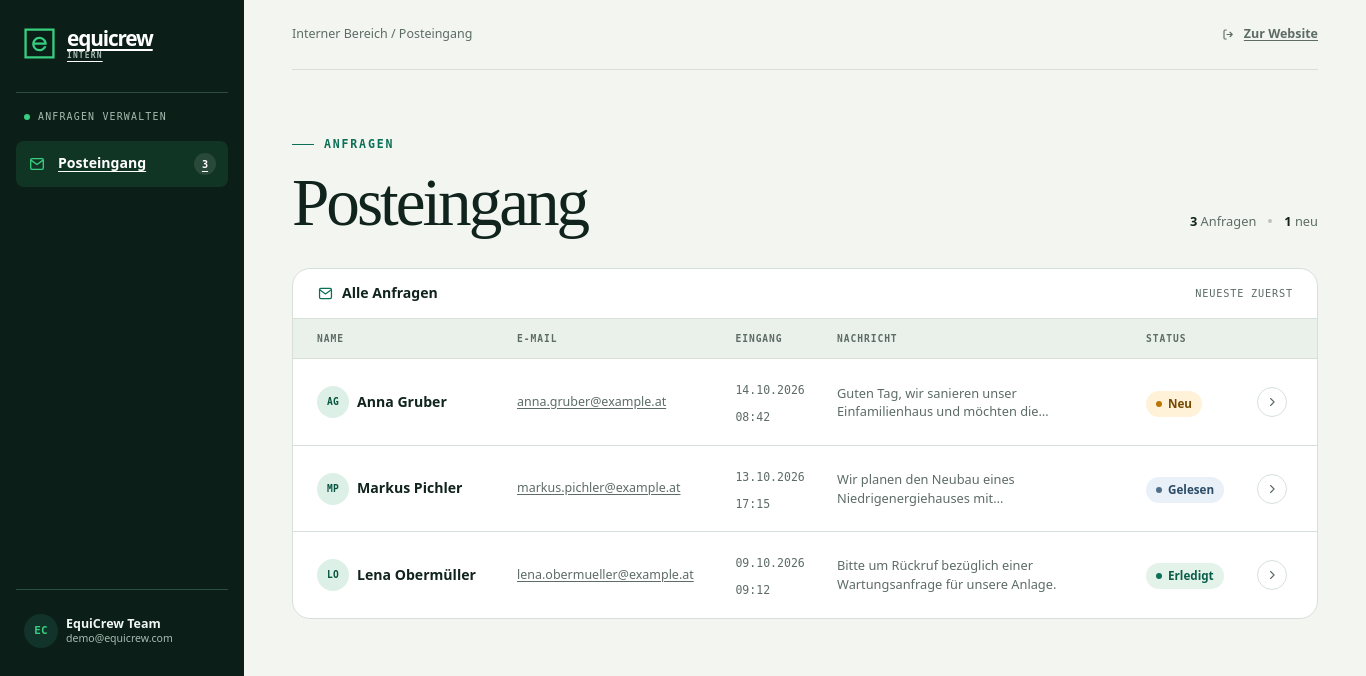
it: InboxPage › opens an inquiry, marks it done and shows the new status in the list
Step 1. Click the link "Anna Gruber" → (402, 402), box [357,391,447,414]
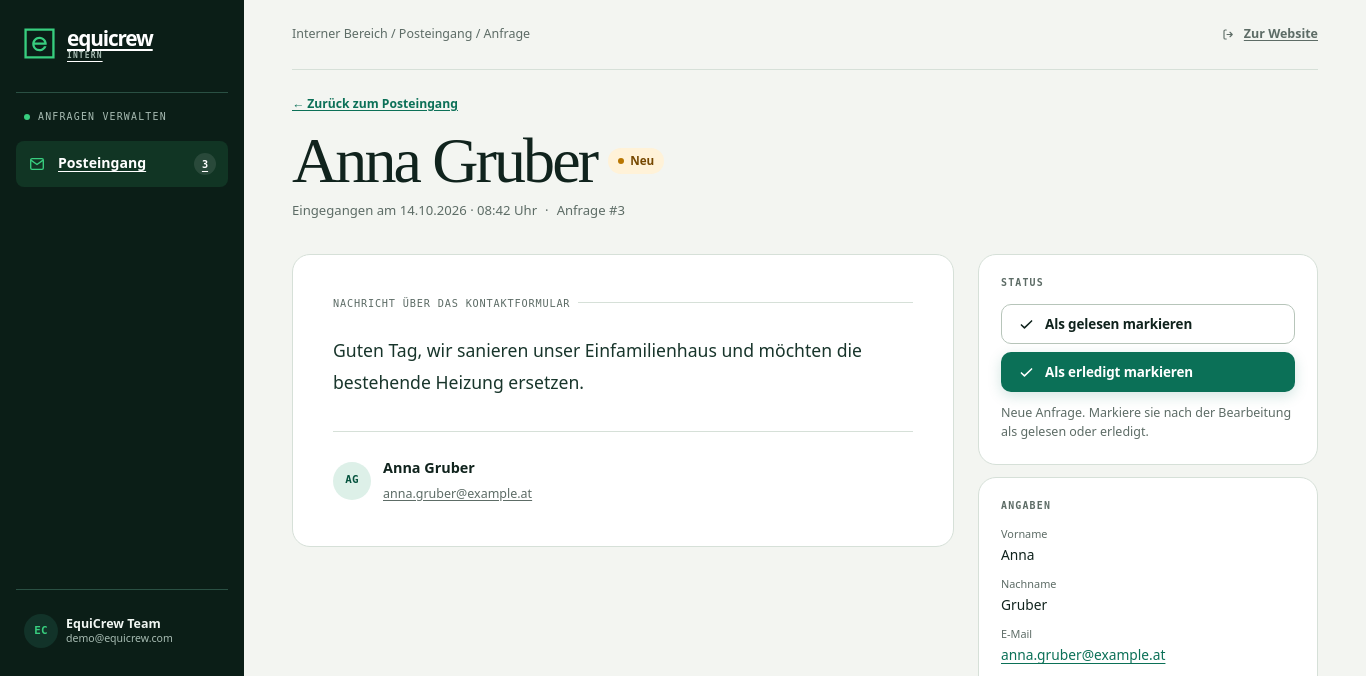
Check: the text "wir sanieren unser Einfamilienhaus" is shown, box [333,338,862,394]
Check: the heading "Anna Gruber" is shown, box [292,130,596,192]
Check: the link "anna.gruber@example.at" below "Nachricht über das Kontaktformular" is shown, box [383,485,532,502]
Step 2. Click the button "Als erledigt markieren" → (1148, 372), box [1001,352,1295,392]
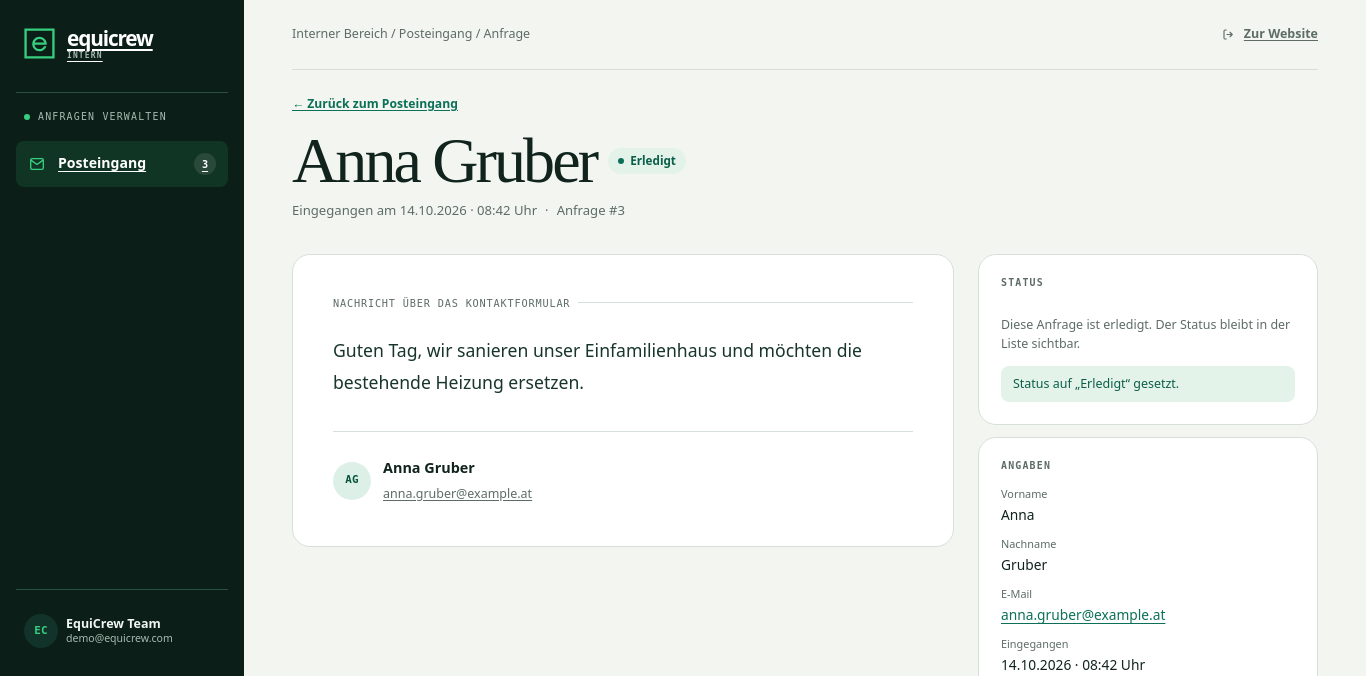
Check: the text "Status auf „Erledigt“ gesetzt." is shown, box [1001,366,1295,402]
Check: the text "Erledigt" is shown, box [608,148,686,174]
Step 3. Click the link "← Zurück zum Posteingang" → (375, 104), box [292,94,458,114]
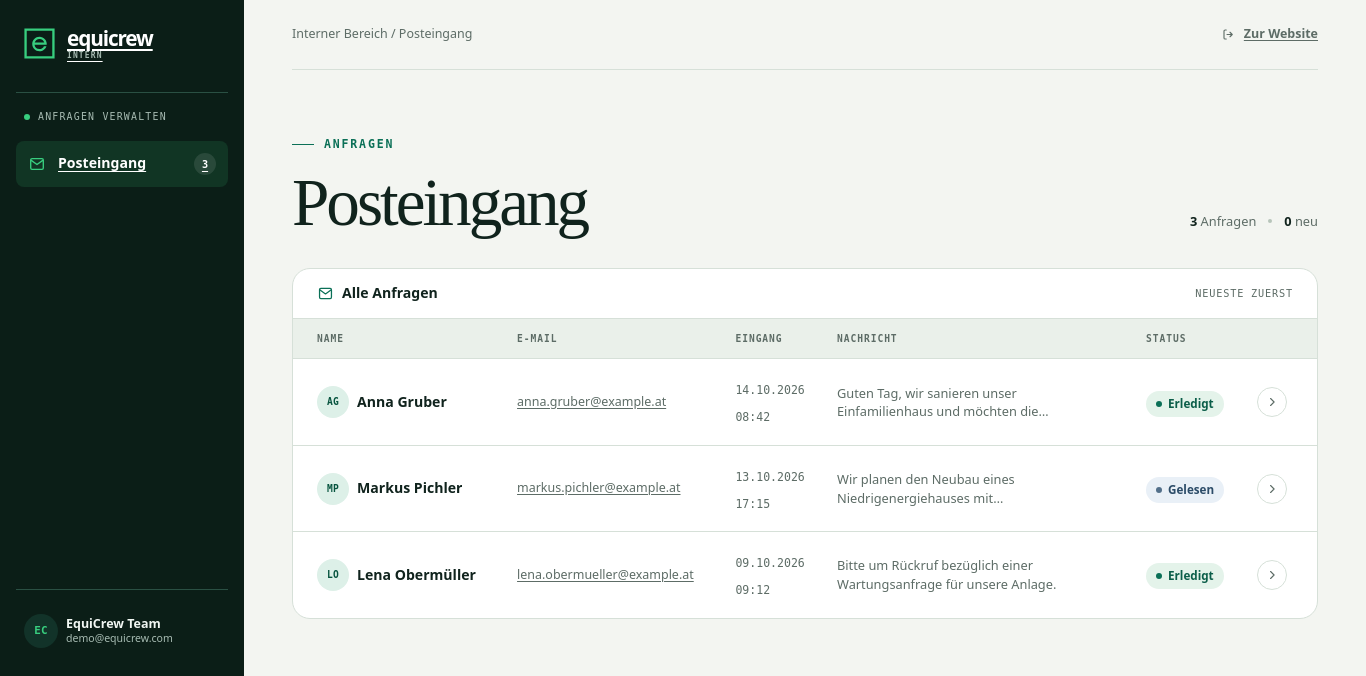
Check: the heading "Posteingang" is shown, box [292,170,587,236]
Check: the row that starts with "Anna Gruber" is shown, box [293,359,1317,445]
Check: the row that starts with "Anna Gruber" shows "Erledigt", box [1168,396,1214,411]
